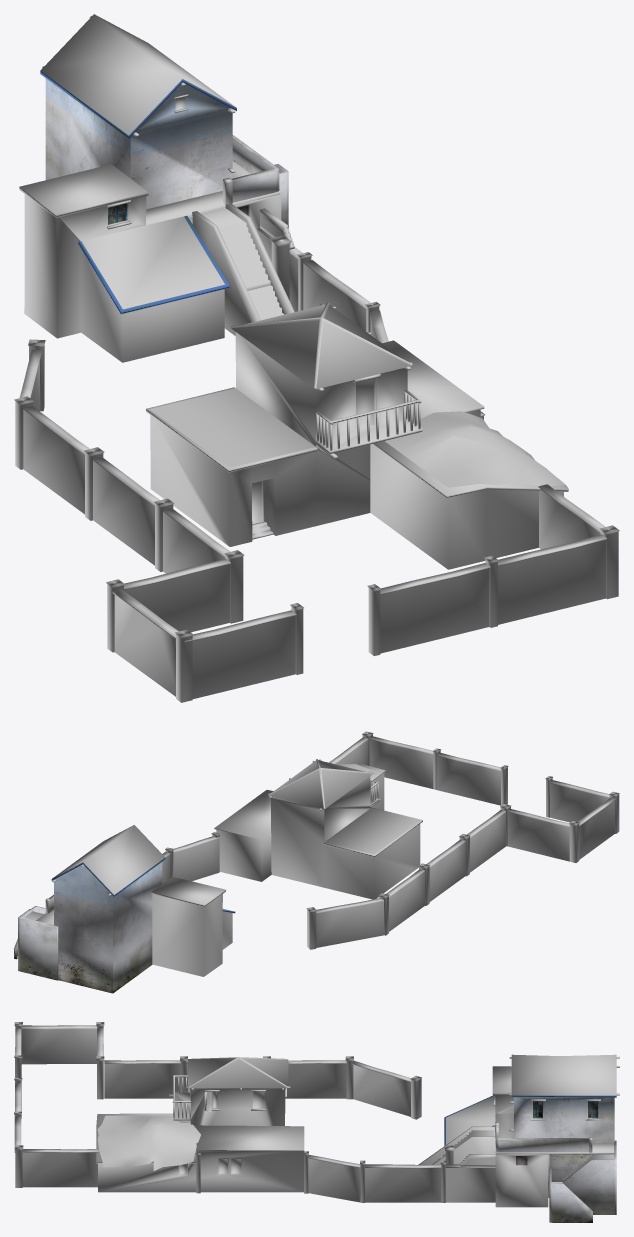
Rendered from BuildingE.dae.
The picture shows the model from 3 angles, top to bottom: view 1: azimuth 30°, elevation 25°; view 2: azimuth 150°, elevation 25°; view 3: azimuth 270°, elevation 25°; orthographic projection. The views are drawn at different scales.
Parts seen in each view (by area): view 1: meshU3D; view 2: meshU3D; view 3: meshU3D.
Part boxes in pixels (bbox=[...]): meshU3D: bbox=[14, 14, 619, 702]; meshU3D: bbox=[14, 731, 619, 993]; meshU3D: bbox=[14, 1022, 619, 1222].
Size of the model in its own units: 916 by 338 by 1450.
